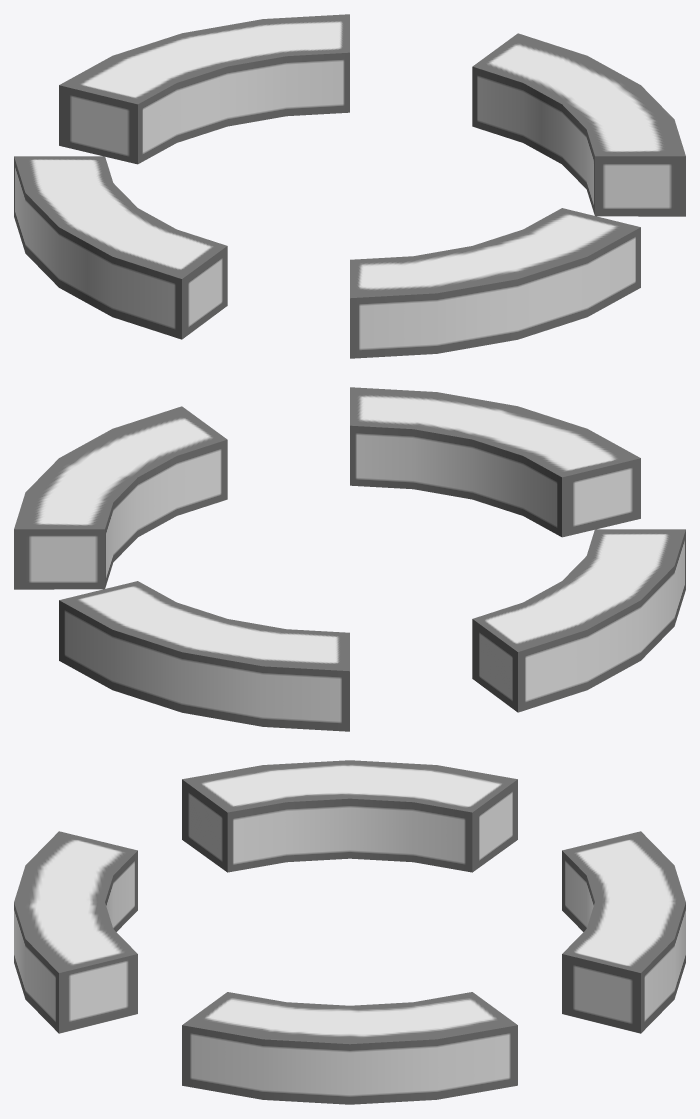
Rendered from Unlock area.FBX.
3 views of the same model, one above another, from view 1: azimuth 30°, elevation 25°; view 2: azimuth 150°, elevation 25°; view 3: azimuth 270°, elevation 25° (orthographic).
Parts seen in each view (by area): view 1: UnlockArea; view 2: UnlockArea; view 3: UnlockArea.
Part boxes in pixels (bbox=[...]): UnlockArea: bbox=[14, 14, 685, 358]; UnlockArea: bbox=[14, 387, 685, 731]; UnlockArea: bbox=[14, 760, 685, 1104].
Size of the model in its own units: 2.61 by 0.2592 by 2.61.
